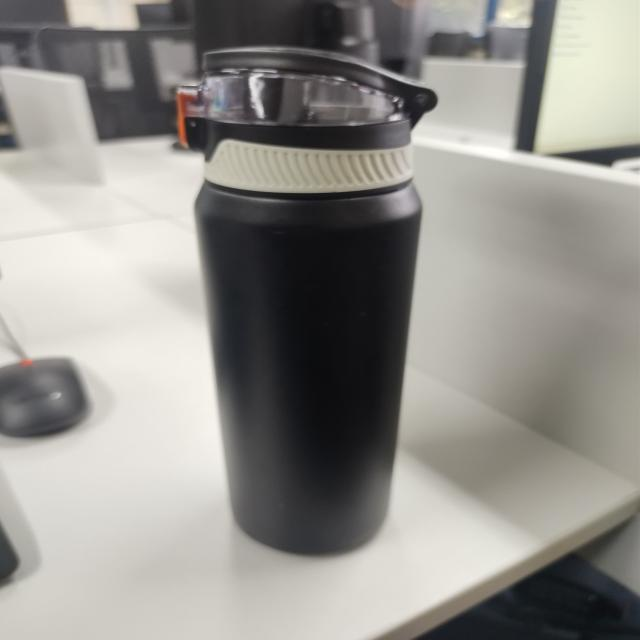Garrafa: (125, 33, 441, 563)
